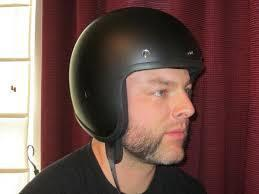helmet: (67, 5, 207, 167)
